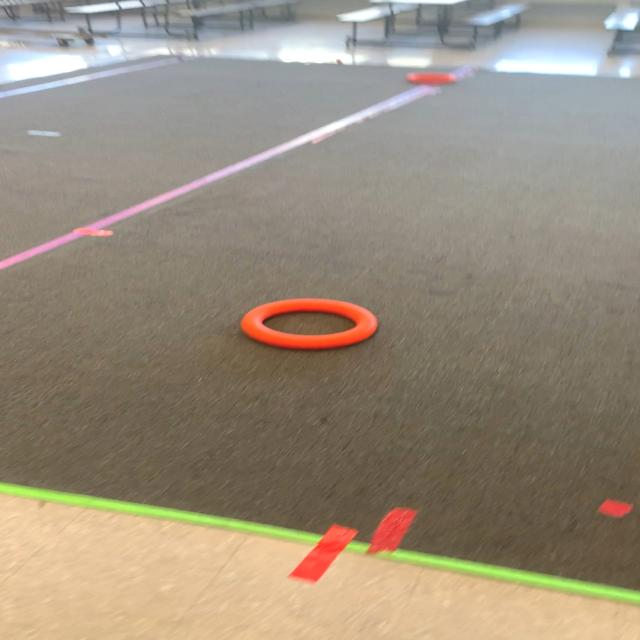notes: (245, 298, 379, 348), (407, 71, 456, 84)
